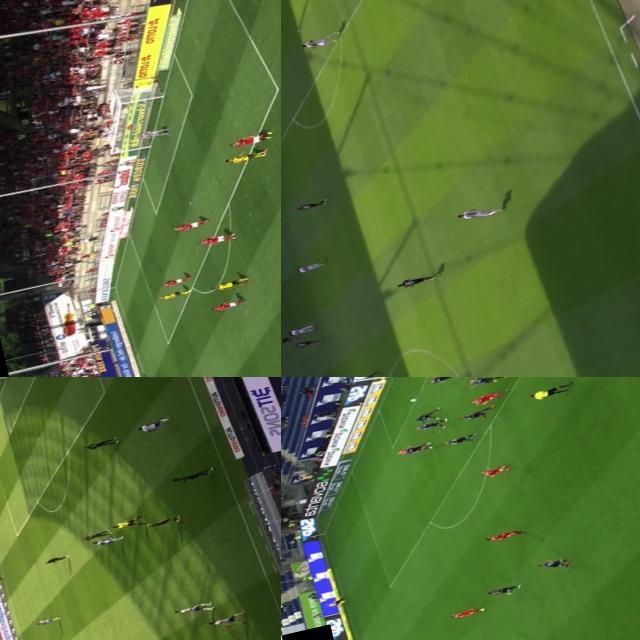ball: (404, 396, 419, 404)
player: (451, 200, 504, 227), (168, 598, 220, 620), (203, 609, 250, 633), (294, 30, 340, 54), (454, 402, 495, 428), (227, 130, 274, 152), (534, 552, 576, 574), (168, 466, 216, 485), (196, 230, 240, 250), (80, 432, 120, 454), (138, 512, 186, 530), (220, 147, 265, 166), (482, 528, 522, 548), (476, 460, 514, 480), (439, 430, 482, 447), (486, 581, 528, 598), (394, 272, 432, 290), (468, 389, 508, 406), (408, 408, 442, 428), (461, 377, 509, 391), (130, 418, 170, 434), (449, 604, 489, 620), (413, 418, 446, 436), (133, 126, 170, 142), (291, 198, 325, 215), (76, 528, 111, 544), (171, 218, 205, 234), (155, 273, 189, 289), (210, 278, 246, 292), (154, 288, 190, 302), (283, 323, 319, 337), (40, 550, 71, 566), (296, 260, 328, 275), (208, 299, 242, 313), (396, 442, 430, 456), (399, 443, 431, 456), (31, 614, 60, 628), (94, 533, 120, 547), (427, 377, 464, 386), (294, 338, 318, 349), (499, 636, 544, 640), (281, 335, 294, 346)
